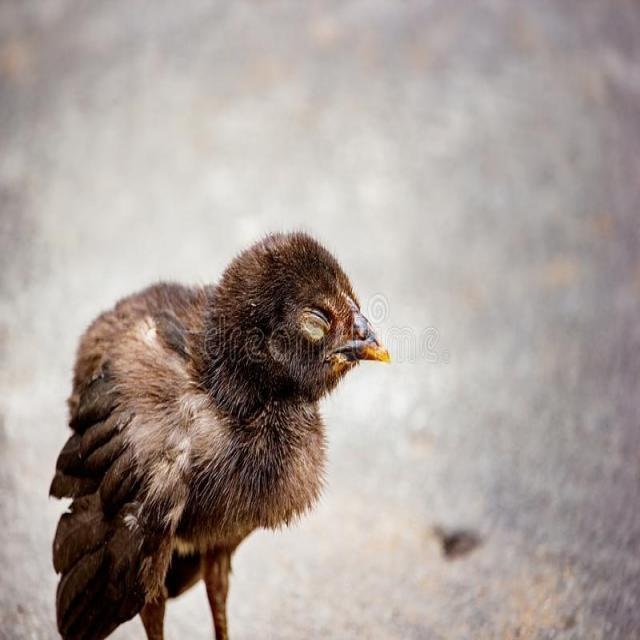poussin: (39, 226, 390, 640)
